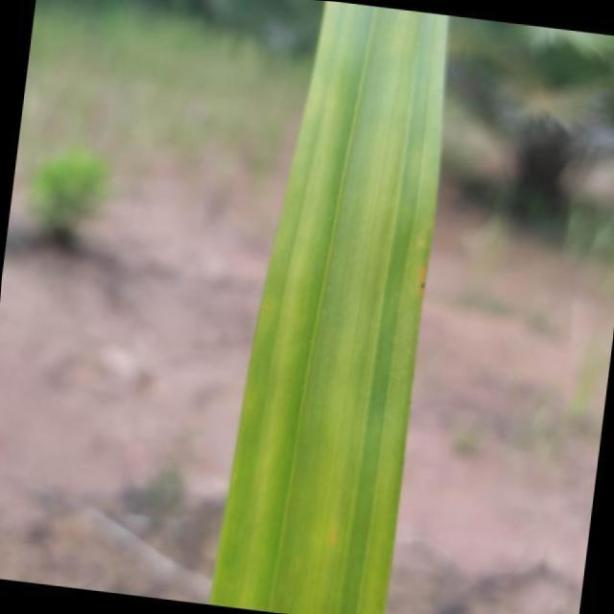nitrogen: (214, 0, 448, 614)
